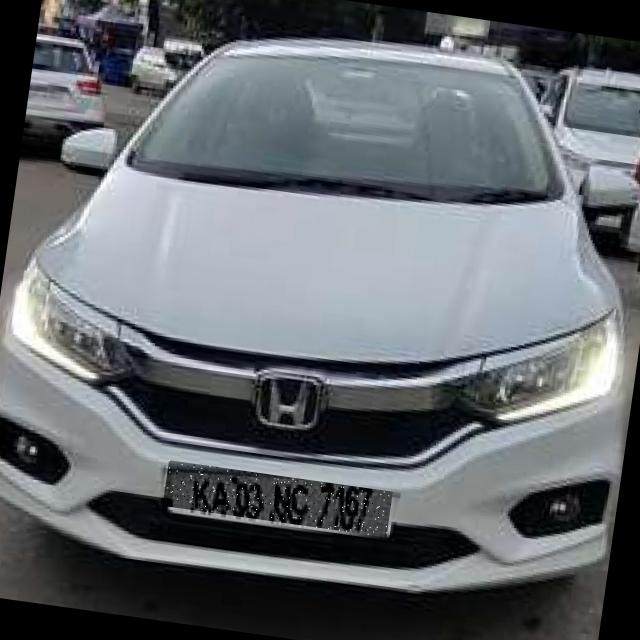Plate: (164, 462, 394, 539)
